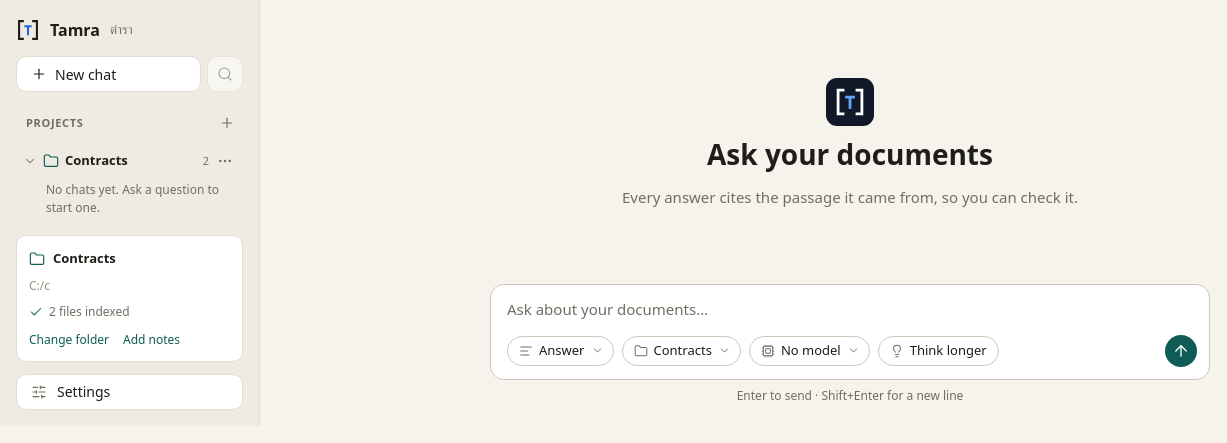
The project menu › lists Project settings, Rename, Change folder, Rebuild index and Delete project
The width and height of the screenshot is (1227, 443).
Click the button named "Options for project Contracts" at (225, 161), box [211, 147, 239, 175]
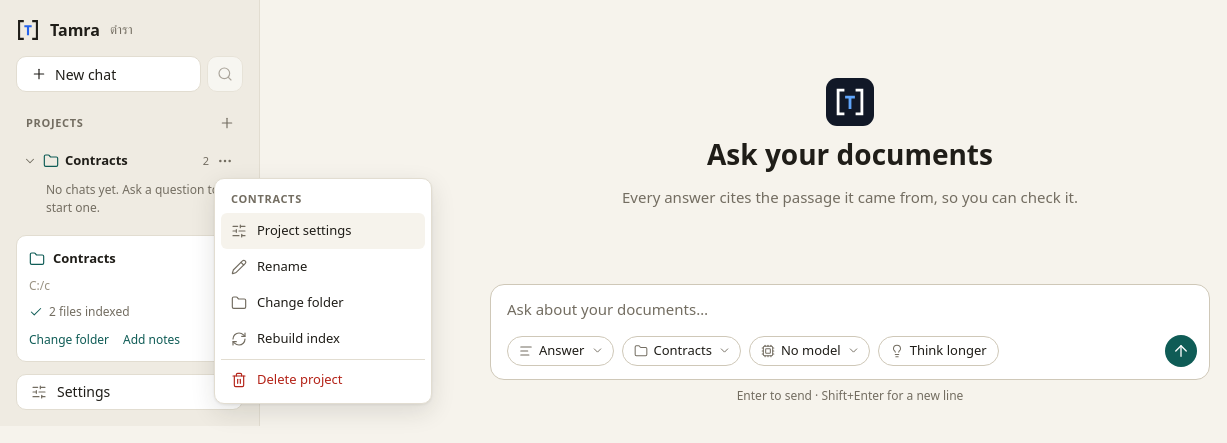
Expected: the menu shows "Contracts", [231, 191, 302, 206]
